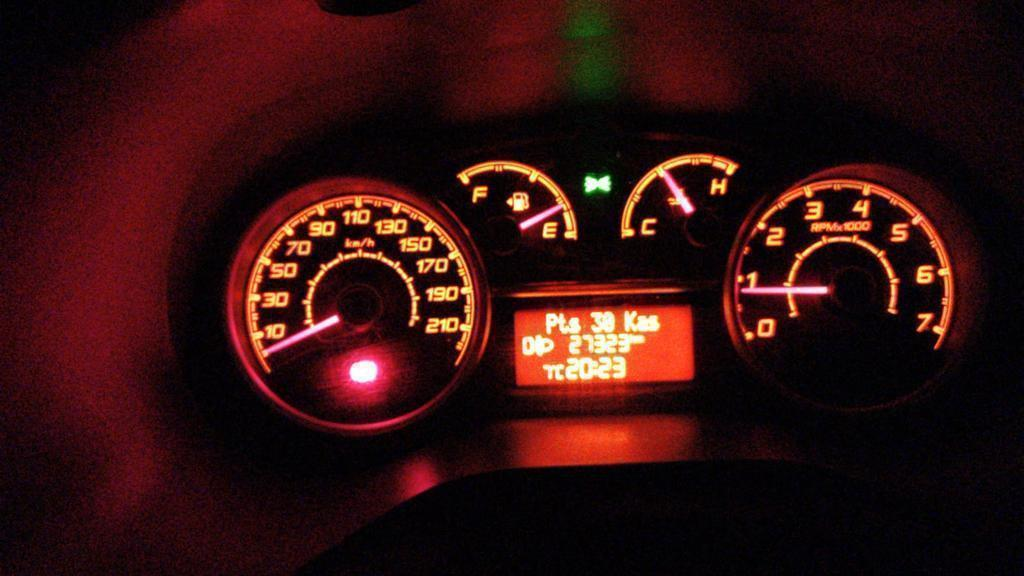0: (579, 356, 592, 381), (602, 310, 615, 332), (521, 335, 534, 355)
2: (565, 357, 578, 380), (598, 357, 611, 379), (605, 333, 617, 353), (569, 334, 581, 354)
3: (612, 355, 626, 378), (590, 310, 602, 332), (618, 333, 630, 353), (593, 333, 605, 352)
7: (582, 333, 593, 353), (542, 363, 552, 380)
X: (623, 309, 637, 332), (557, 312, 569, 334), (545, 312, 557, 334), (568, 316, 581, 332), (648, 315, 660, 332), (637, 314, 648, 332), (555, 363, 564, 380), (593, 359, 598, 377), (637, 334, 644, 344), (630, 333, 636, 344)
odometer: (510, 303, 696, 389)
